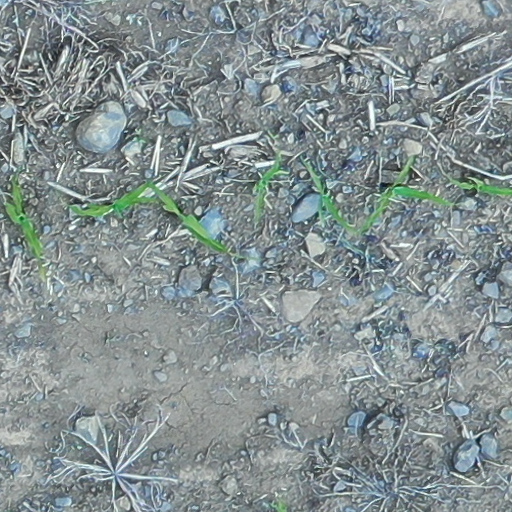planta: (359, 153, 450, 233), (145, 177, 230, 255), (67, 177, 164, 220), (1, 173, 47, 263), (301, 160, 355, 233), (250, 149, 294, 217)
